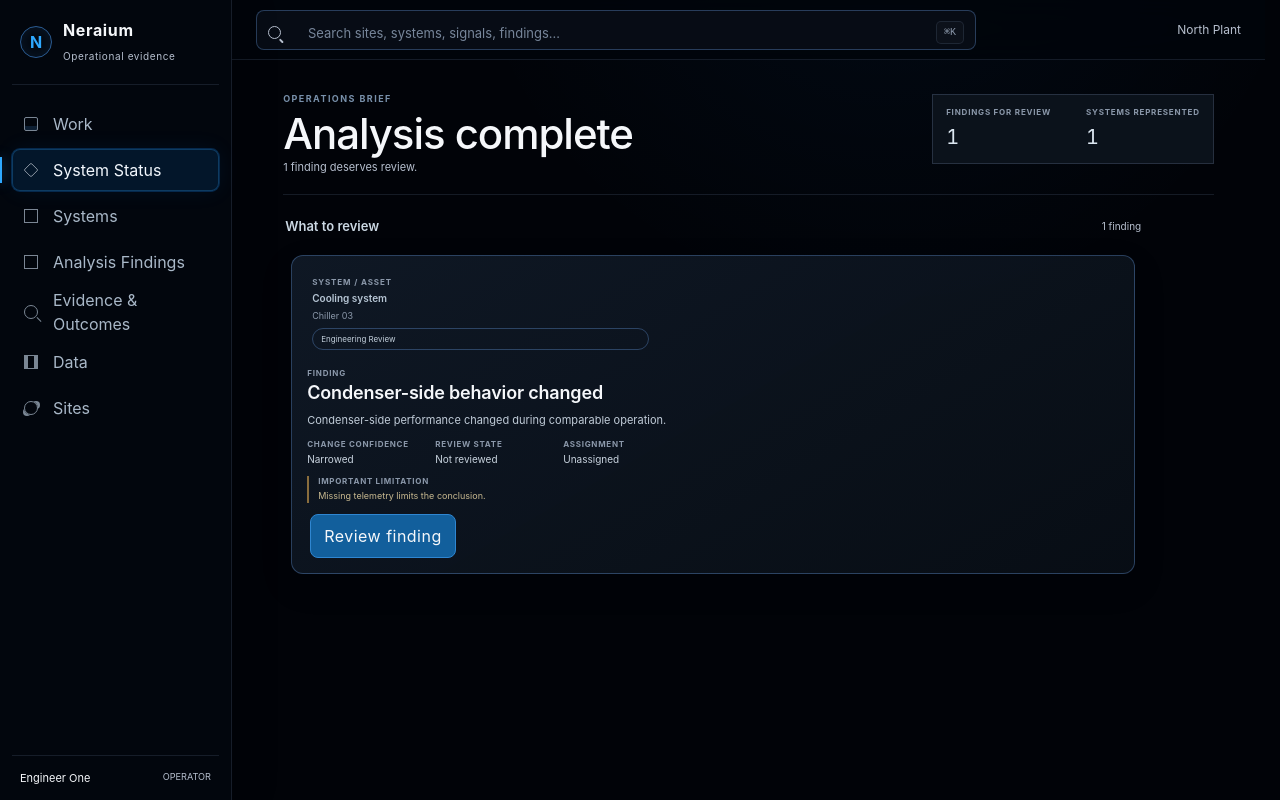
it: EngineeringReasoningWorkspace daily workflows › keeps the multi-site portfolio available without replacing the default brief
Expected: the element with test id "operations-brief" is shown, top-left (283, 92), bottom-right (1214, 582)
Click the button "Sites" at [116, 408], box top-left (12, 387), bottom-right (219, 429)
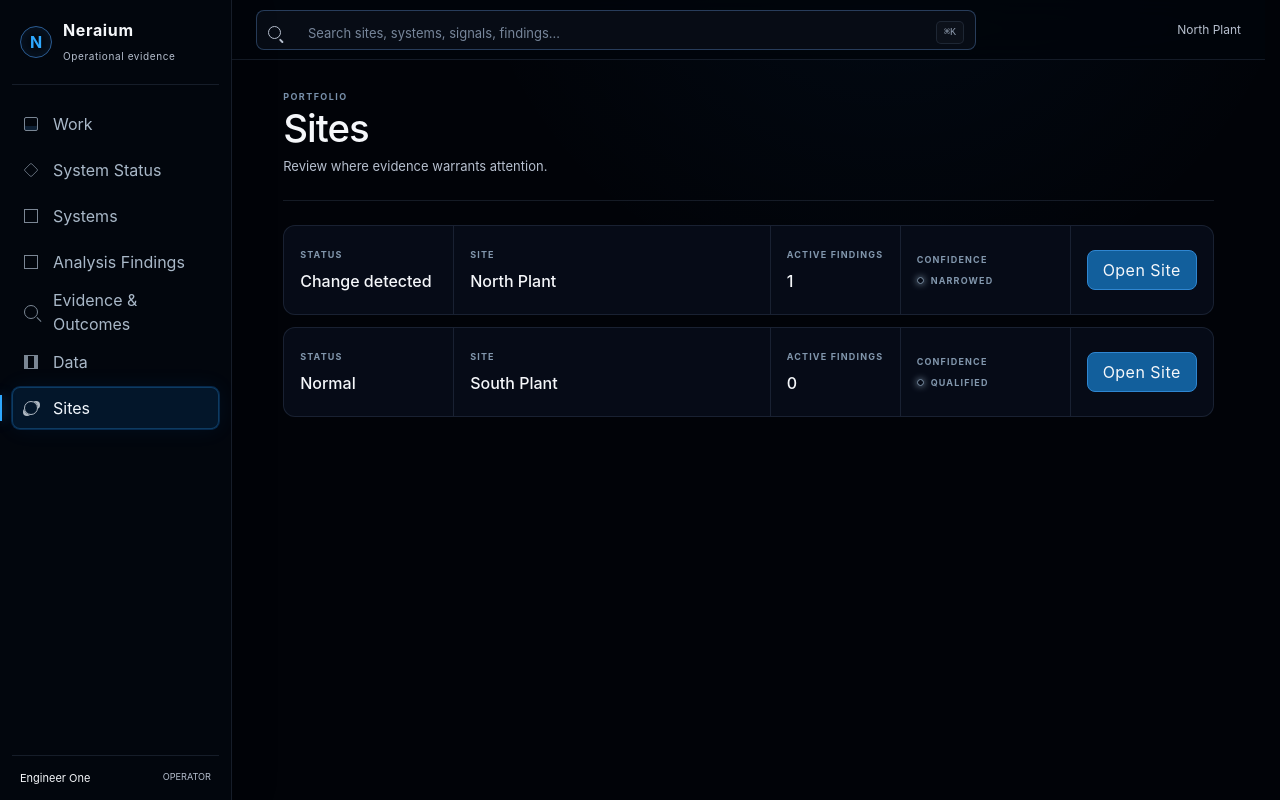
Now the heading "Sites" is shown, box top-left (283, 105), bottom-right (369, 151)
